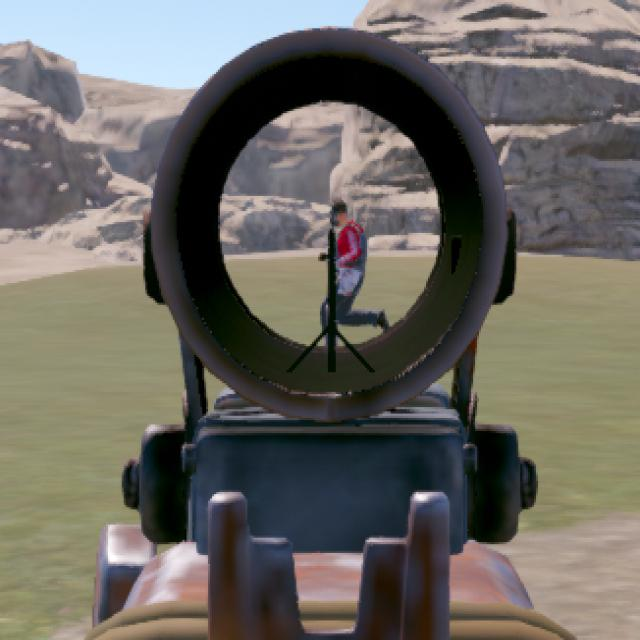Player: (332, 200, 389, 326)
